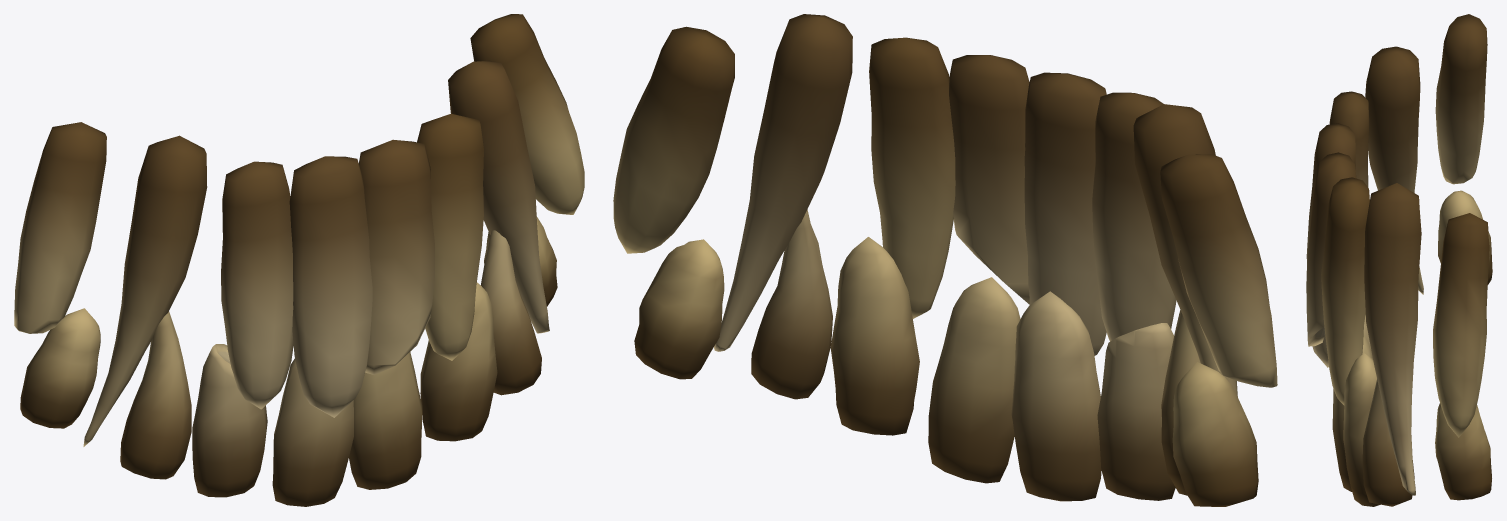
File: goblin-teeth.glb
The picture shows the model from 3 angles, left to right: view 1: azimuth 30°, elevation 25°; view 2: azimuth 150°, elevation 25°; view 3: azimuth 270°, elevation 25°; orthographic projection. The views are drawn at different scales.
Visible parts, largest first — view 1: tooth_u03, tooth_u02, tooth_u01, tooth_u04, tooth_u00, tooth_u05, tooth_u06, tooth_u07, tooth_l02, tooth_l03, tooth_l01, tooth_l04 (+4 smaller); view 2: tooth_u06, tooth_u05, tooth_u07, tooth_u00, tooth_u03, tooth_u04, tooth_l03, tooth_l04, tooth_l05, tooth_u02, tooth_l02, tooth_l06 (+4 smaller); view 3: tooth_u06, tooth_u07, tooth_u05, tooth_u00, tooth_u01, tooth_l07, tooth_u04, tooth_l06, tooth_l05, tooth_u02, tooth_u03, tooth_l00 (+1 smaller).
Part boxes in pixels (box(x1,y1,x2,y2)): tooth_u03: box(289, 156, 372, 417); tooth_u02: box(221, 161, 293, 409); tooth_u01: box(83, 135, 207, 446); tooth_u04: box(358, 139, 434, 374); tooth_u00: box(14, 122, 106, 333); tooth_u05: box(417, 113, 483, 360); tooth_u06: box(448, 60, 549, 333); tooth_u07: box(470, 14, 584, 214); tooth_l02: box(192, 344, 267, 497); tooth_l03: box(272, 358, 353, 506); tooth_l01: box(120, 311, 191, 479); tooth_l04: box(349, 352, 422, 489); tooth_u06: box(714, 14, 852, 351); tooth_u05: box(869, 37, 955, 318); tooth_u07: box(613, 26, 734, 253); tooth_u00: box(1160, 154, 1277, 387); tooth_u03: box(1024, 72, 1106, 355); tooth_u04: box(949, 55, 1029, 304); tooth_l03: box(1011, 291, 1101, 501); tooth_l04: box(928, 277, 1020, 483); tooth_l05: box(830, 237, 919, 435); tooth_u02: box(1092, 92, 1176, 341); tooth_l02: box(1097, 323, 1175, 500); tooth_l06: box(751, 209, 832, 399); tooth_u06: box(1364, 183, 1421, 495); tooth_u07: box(1433, 213, 1489, 437); tooth_u05: box(1321, 177, 1369, 405); tooth_u00: box(1435, 14, 1487, 184); tooth_u01: box(1365, 46, 1423, 294); tooth_l07: box(1435, 403, 1491, 500); tooth_u04: box(1306, 152, 1356, 346); tooth_l06: box(1362, 379, 1414, 506); tooth_l05: box(1343, 353, 1380, 506); tooth_u02: box(1329, 91, 1369, 187); tooth_u03: box(1306, 123, 1355, 367); tooth_l00: box(1438, 190, 1492, 284).
Size of the model in its own units: 0.0845 by 0.0545 by 0.026.
